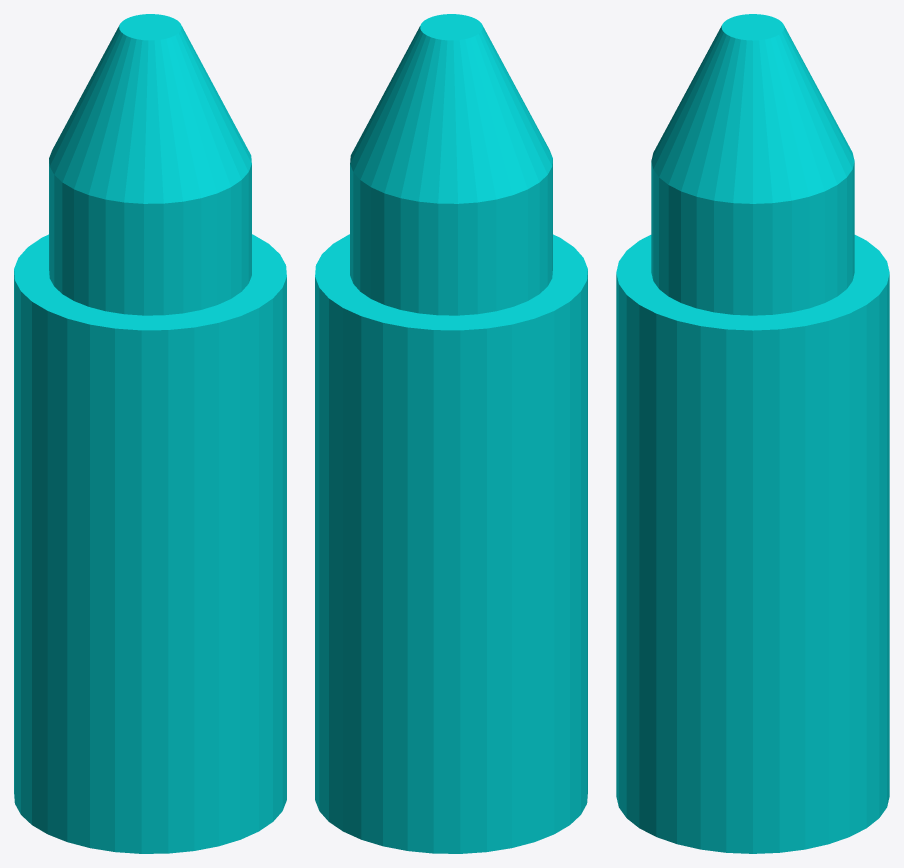
The model's file is mermi.fbx.
The picture shows the model from 3 angles, left to right: view 1: azimuth 30°, elevation 25°; view 2: azimuth 150°, elevation 25°; view 3: azimuth 270°, elevation 25°; orthographic projection.
Parts seen in each view (by area): view 1: Cylinder; view 2: Cylinder; view 3: Cylinder.
Part boxes in pixels (left/top/right/bottom): Cylinder: left=14, top=14, right=286, bottom=853; Cylinder: left=315, top=14, right=587, bottom=853; Cylinder: left=616, top=14, right=889, bottom=853.
Bounding box in the file's own units: 18.27 × 56.69 × 18.27.
